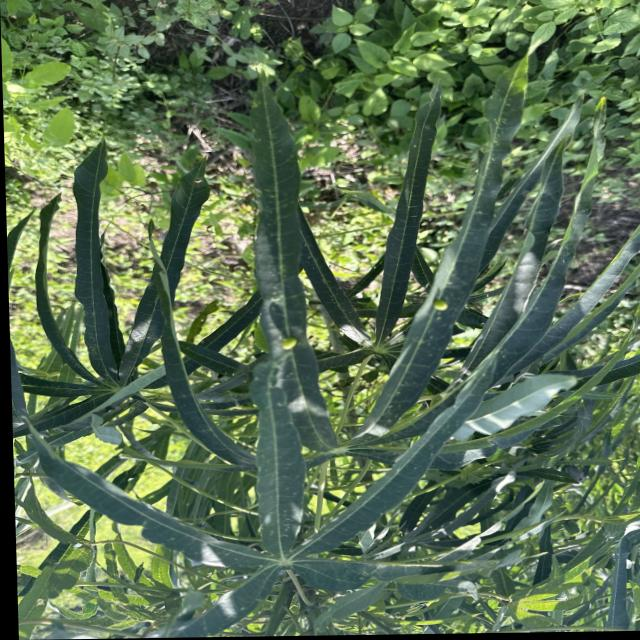Maleza: (0, 18, 625, 69)
Mosca: (267, 328, 309, 358), (425, 291, 458, 315)
